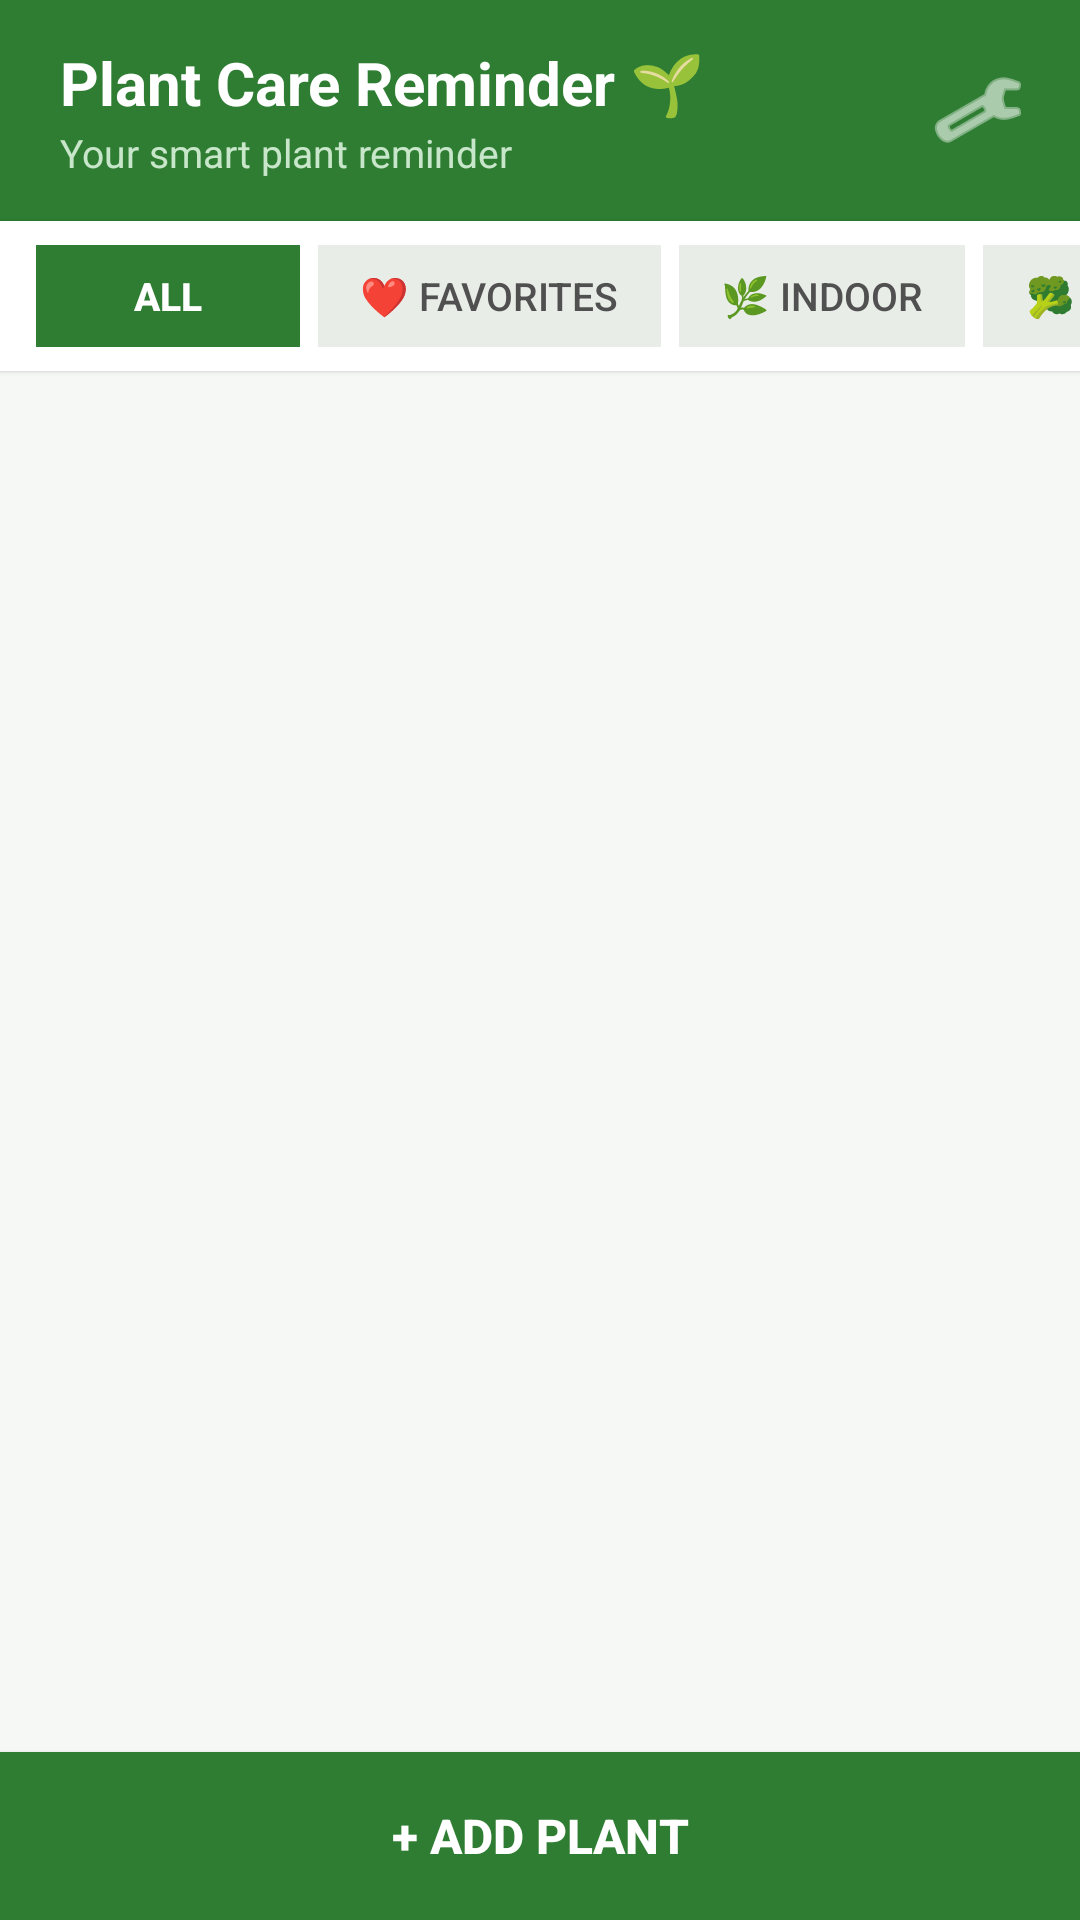

Icons on this 1080px×1920px Android screen, each with its box as {"x1": x1, "y1": y1, "x2": x2, "y2": y2}:
Settings: {"x1": 935, "y1": 77, "x2": 1021, "y2": 143}
